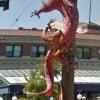Statue: (31, 2, 73, 98)
